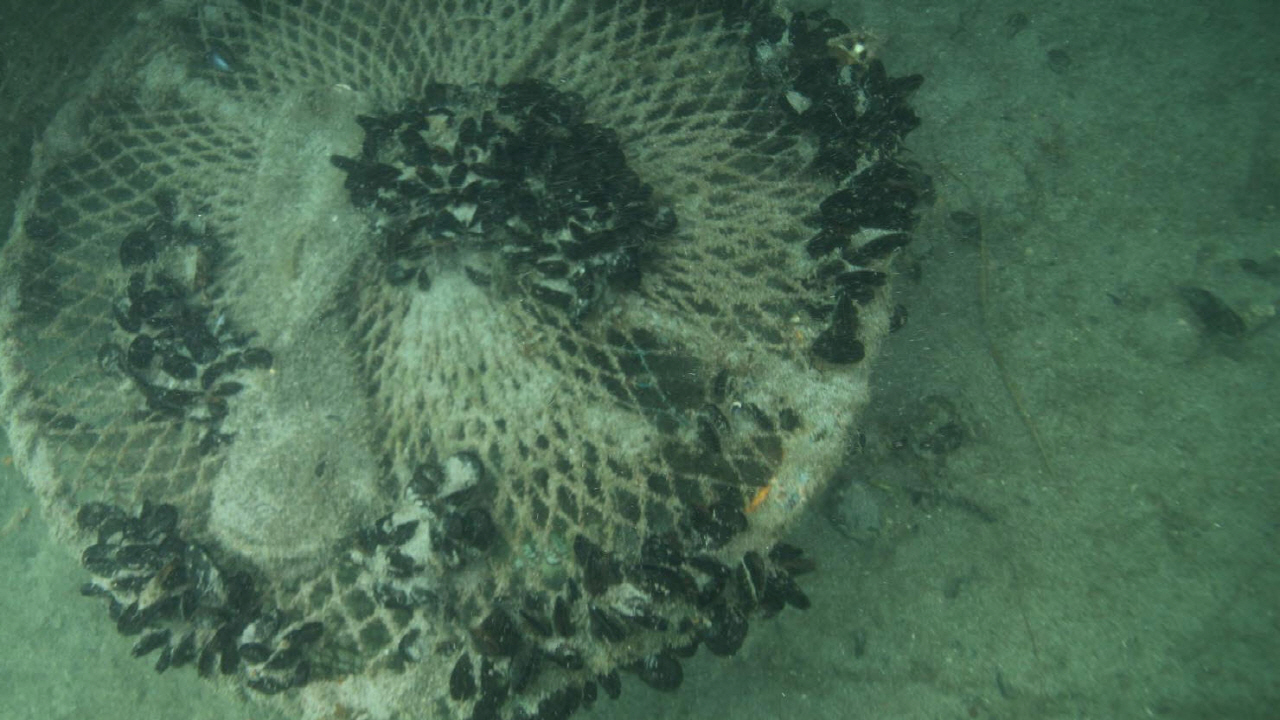circular fish trap: (0, 0, 744, 702)
